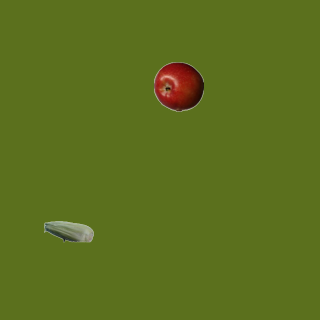Apple Braeburn: (153, 61, 203, 111)
Corn Husk: (43, 206, 93, 256)
